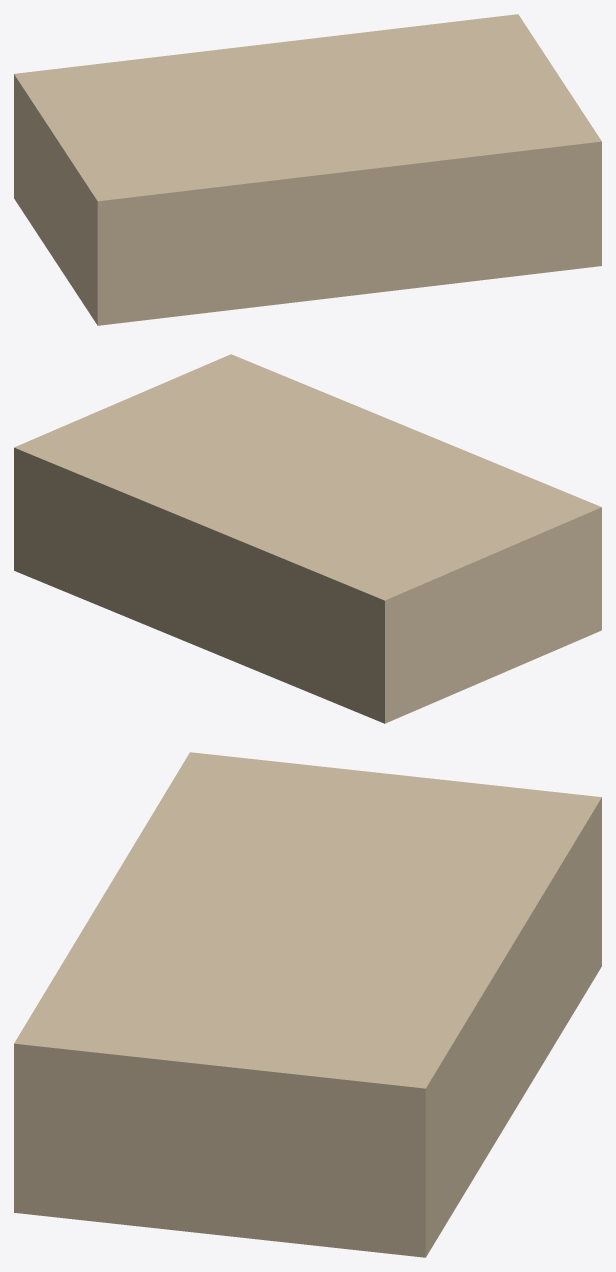
File: -11_-7-estimated-coarse.glb
3 renders of one model, top to bottom at view 1: azimuth 30°, elevation 25°; view 2: azimuth 150°, elevation 25°; view 3: azimuth 270°, elevation 25°, orthographic. The views are drawn at different scales.
Bounding box in the file's own units: 51.19 × 12 × 37.81.
